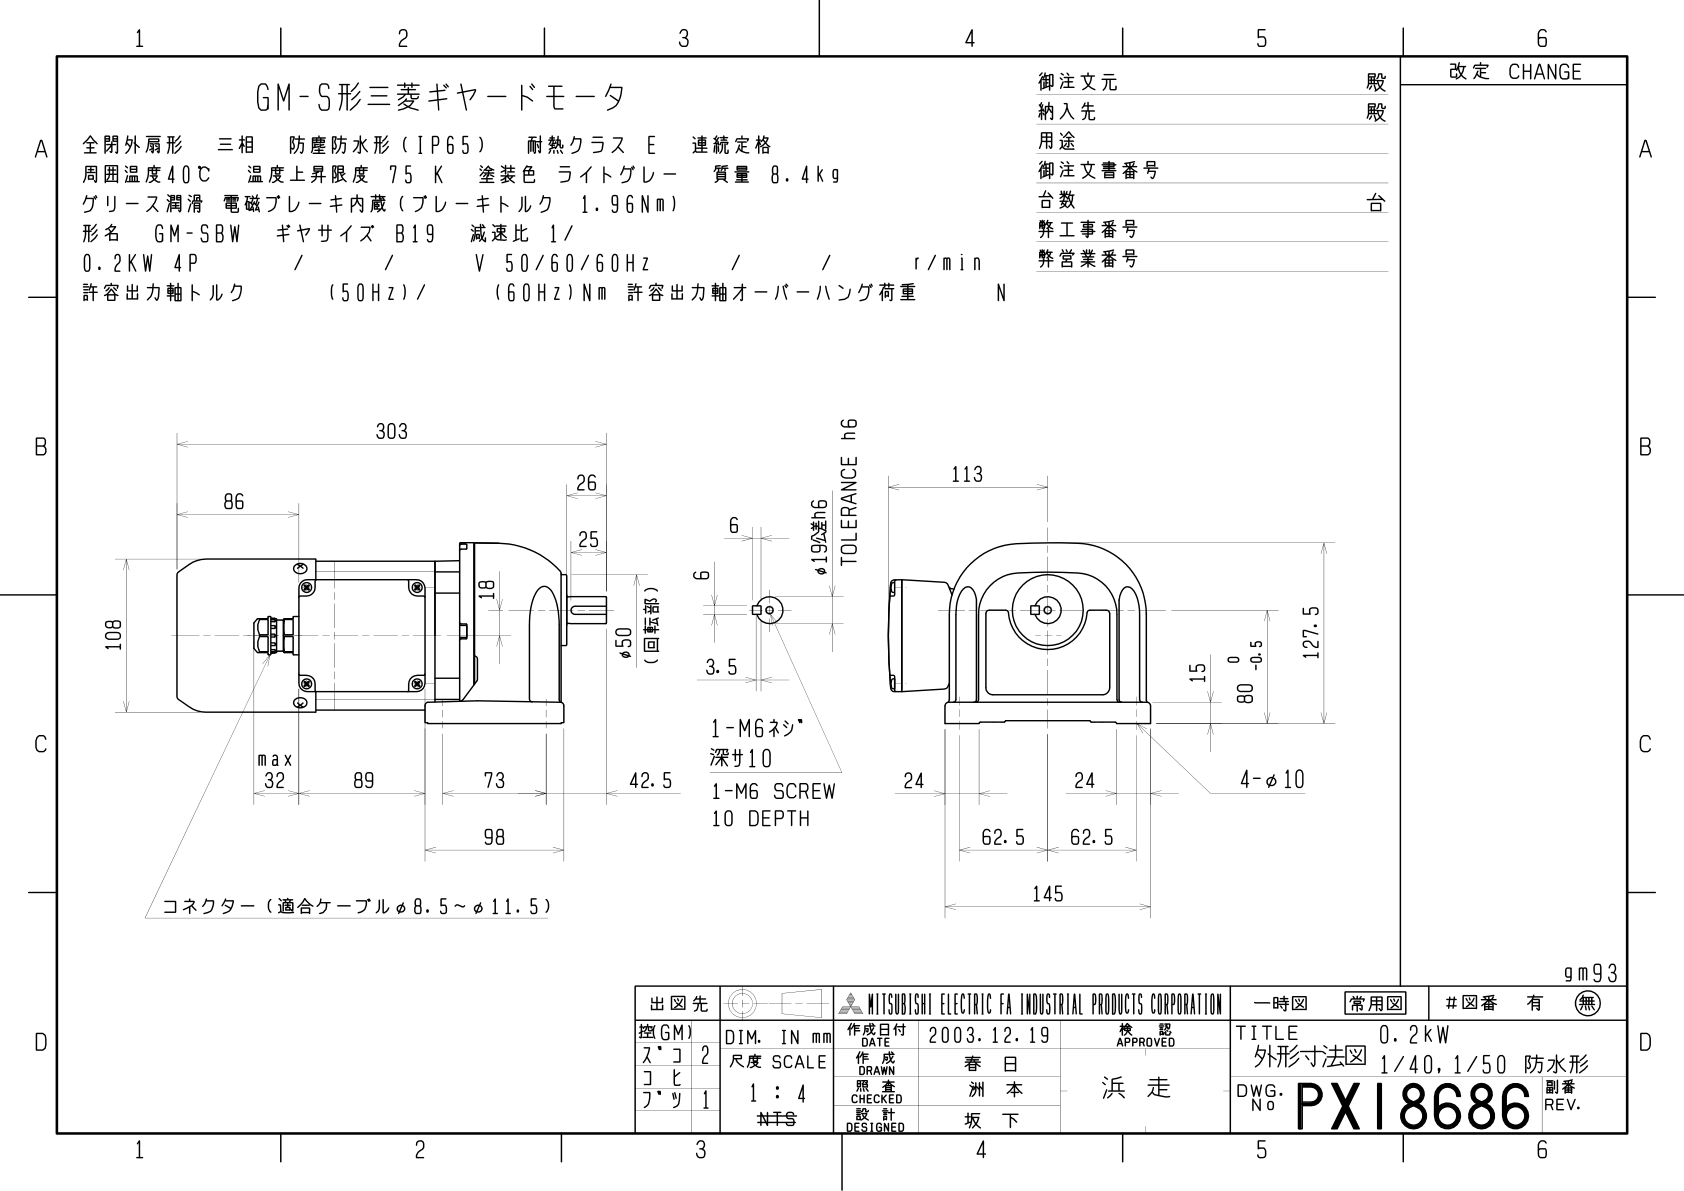GM_S_IP65＿三相_脚: (1, 1, 1681, 1176)
